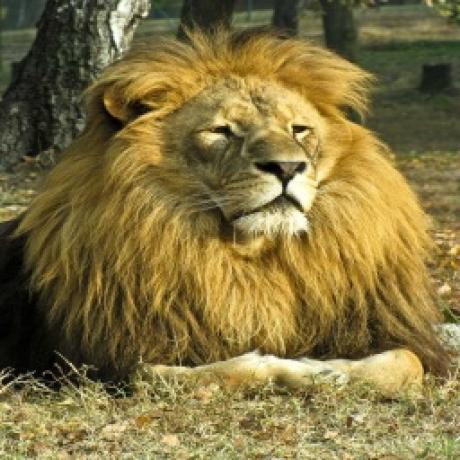Lion: (0, 11, 460, 404)
